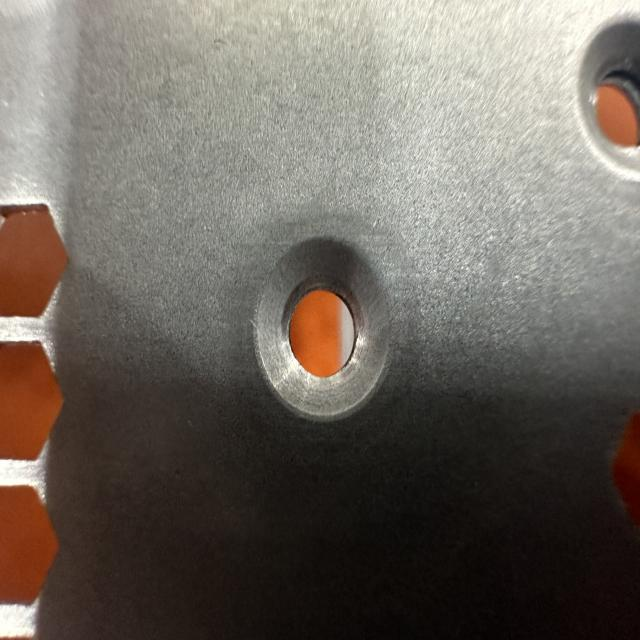Missing screw: (241, 222, 407, 443)
